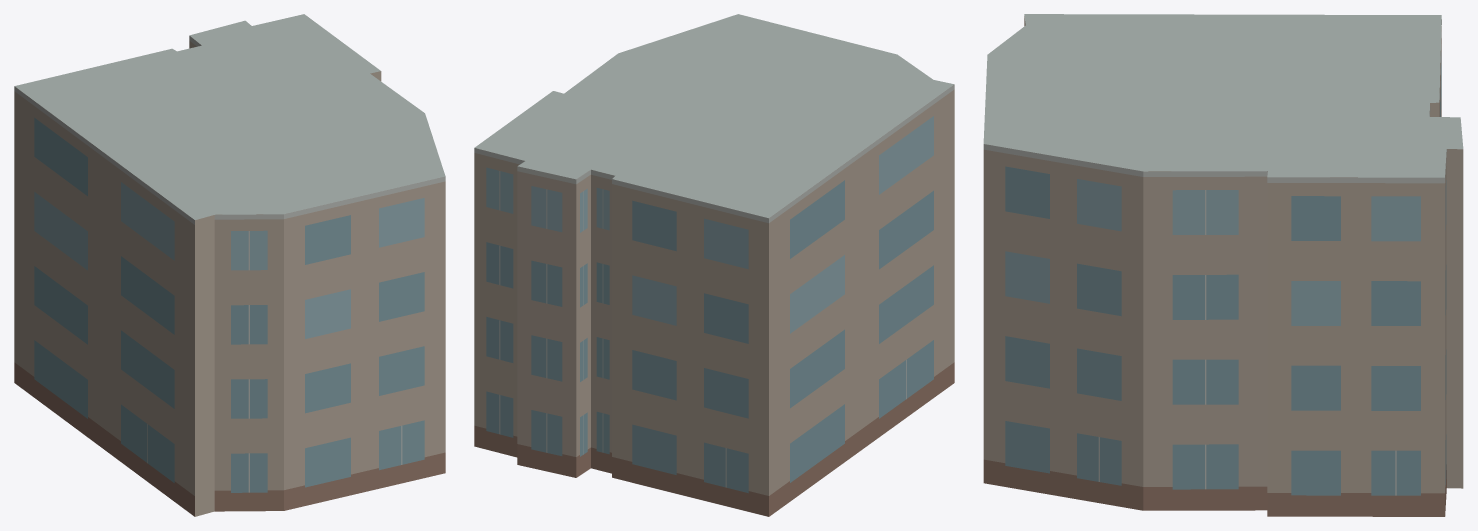
The model's file is survey-upis-32499923.glb.
The picture shows the model from 3 angles, left to right: view 1: azimuth 30°, elevation 25°; view 2: azimuth 150°, elevation 25°; view 3: azimuth 270°, elevation 25°; orthographic projection. The views are drawn at different scales.
Parts seen in each view (by area): view 1: survey-upis-32499923.tmp; view 2: survey-upis-32499923.tmp; view 3: survey-upis-32499923.tmp.
Boxes of the visible parts, x1=… form: survey-upis-32499923.tmp: x1=14, y1=14, x2=445, y2=516; survey-upis-32499923.tmp: x1=474, y1=14, x2=954, y2=516; survey-upis-32499923.tmp: x1=983, y1=14, x2=1463, y2=516.
Size of the model in its own units: 15.22 by 14.7 by 18.86.
